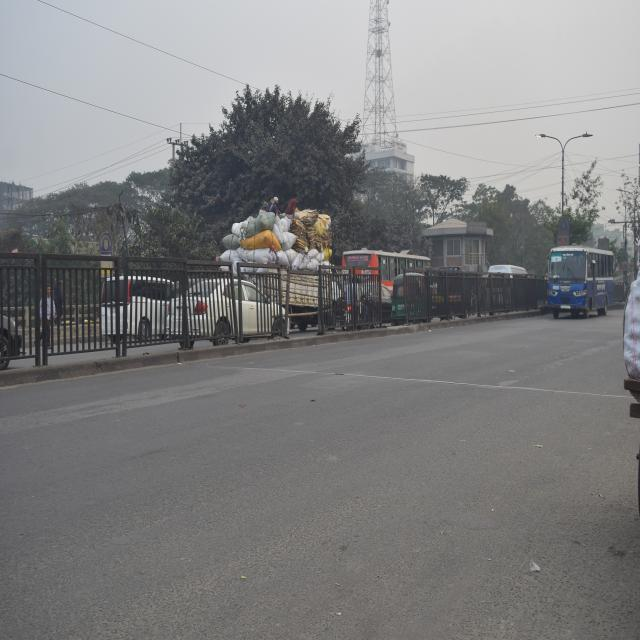bus: (544, 243, 628, 313), (344, 256, 436, 313)
car: (170, 269, 293, 351)
microbus: (94, 279, 186, 338)
